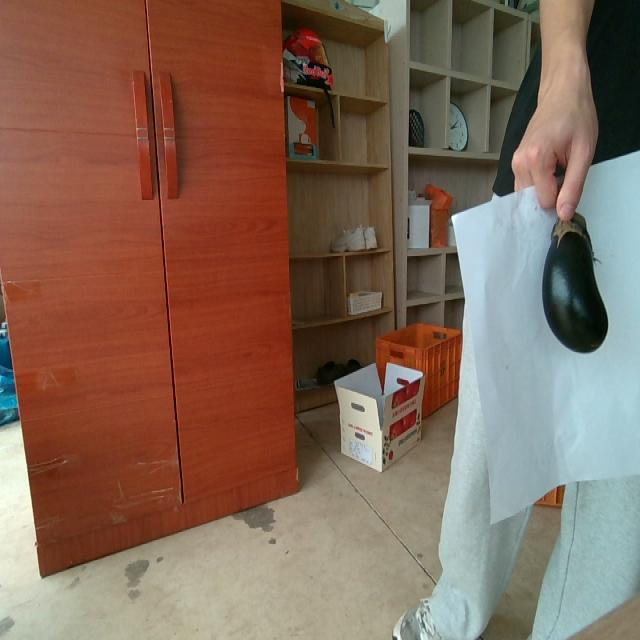Egg plant: (542, 213, 607, 352)
